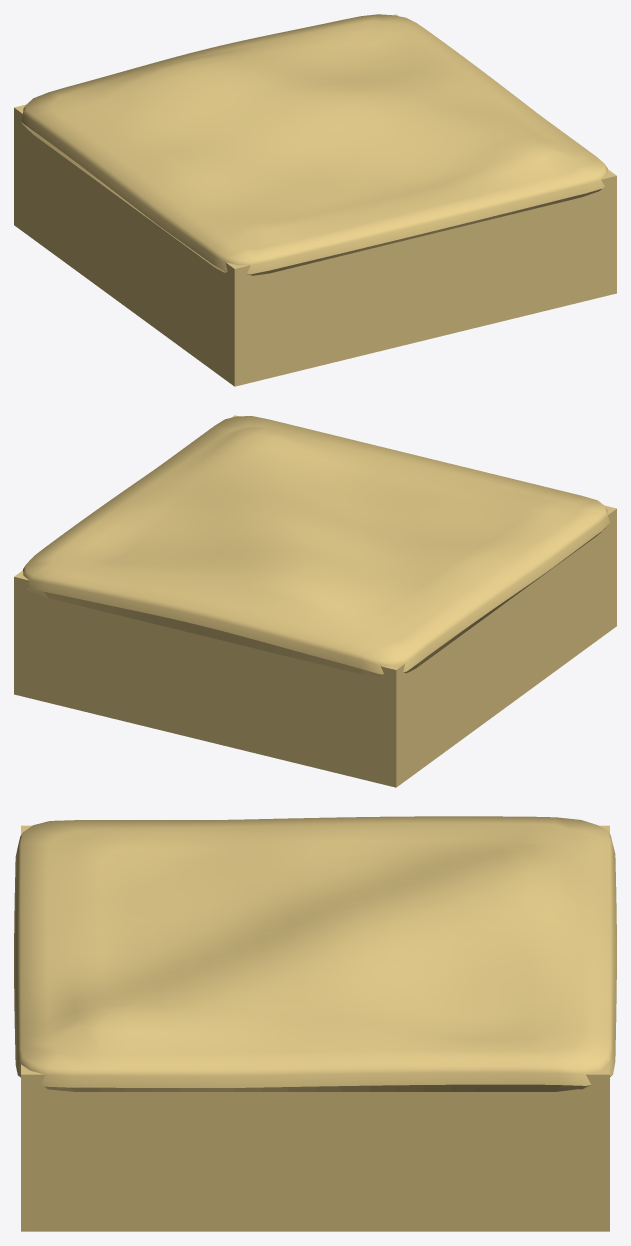
Rendered from tile_sand.glb.
3 views of the same model, one above another, from view 1: azimuth 30°, elevation 25°; view 2: azimuth 150°, elevation 25°; view 3: azimuth 270°, elevation 25° (orthographic). The views are drawn at different scales.
Parts seen in each view (by area): view 1: sand_surface, sand_body, sand_cap; view 2: sand_surface, sand_body, sand_cap; view 3: sand_surface, sand_body, sand_cap.
Boxes of the visible parts, left/top/right/bottom form: sand_surface: left=21, top=14, right=607, bottom=275; sand_body: left=14, top=121, right=616, bottom=386; sand_cap: left=14, top=14, right=616, bottom=281; sand_surface: left=23, top=416, right=609, bottom=676; sand_body: left=14, top=522, right=616, bottom=787; sand_cap: left=14, top=415, right=616, bottom=682; sand_surface: left=14, top=816, right=616, bottom=1091; sand_body: left=21, top=1092, right=609, bottom=1231; sand_cap: left=21, top=825, right=609, bottom=1091.
Bounding box in the file's own units: 1.74 × 0.6392 × 1.74.
